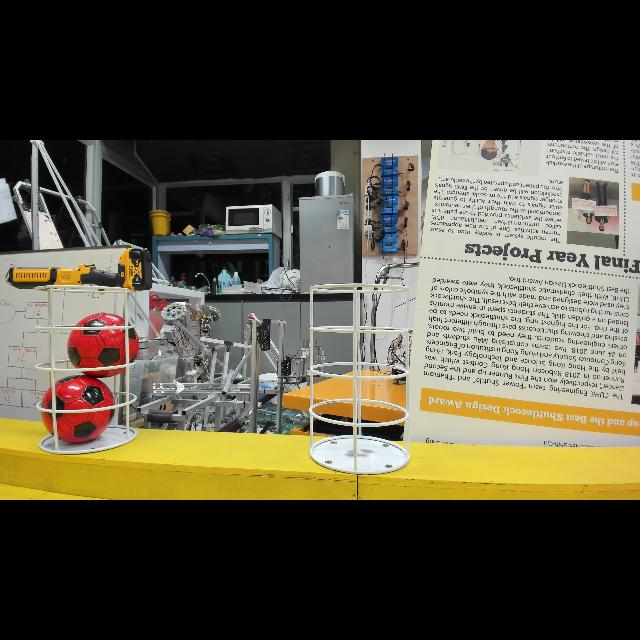R: (38, 373, 118, 447), (66, 309, 142, 379)
S: (306, 280, 414, 476), (28, 283, 142, 459)
